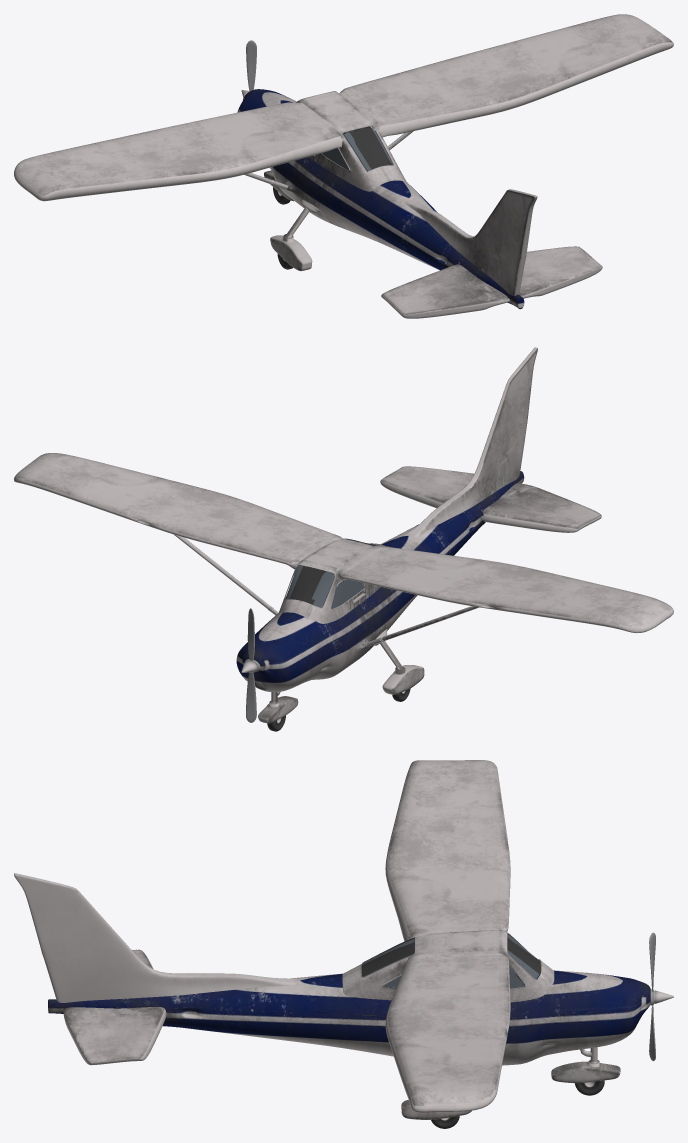
The picture shows the model from 3 angles, top to bottom: view 1: azimuth 30°, elevation 25°; view 2: azimuth 150°, elevation 25°; view 3: azimuth 270°, elevation 25°; orthographic projection. The views are drawn at different scales.
Visible parts, largest first — view 1: body, aileron_L, aileron_R, elevator, prop; view 2: body, prop; view 3: body, prop.
Part boxes in pixels (x1=…): body: x1=14, y1=14, x2=673, y2=318; aileron_L: x1=44, y1=174, x2=190, y2=200; aileron_R: x1=546, y1=42, x2=673, y2=96; elevator: x1=403, y1=267, x2=602, y2=318; prop: x1=246, y1=40, x2=256, y2=90; body: x1=14, y1=347, x2=673, y2=731; prop: x1=243, y1=608, x2=260, y2=722; body: x1=14, y1=760, x2=673, y2=1128; prop: x1=648, y1=932, x2=655, y2=1061.
Bounding box in the file's own units: 11 × 3.29 × 8.83.
Materials: 2 (1 with a texture image).
